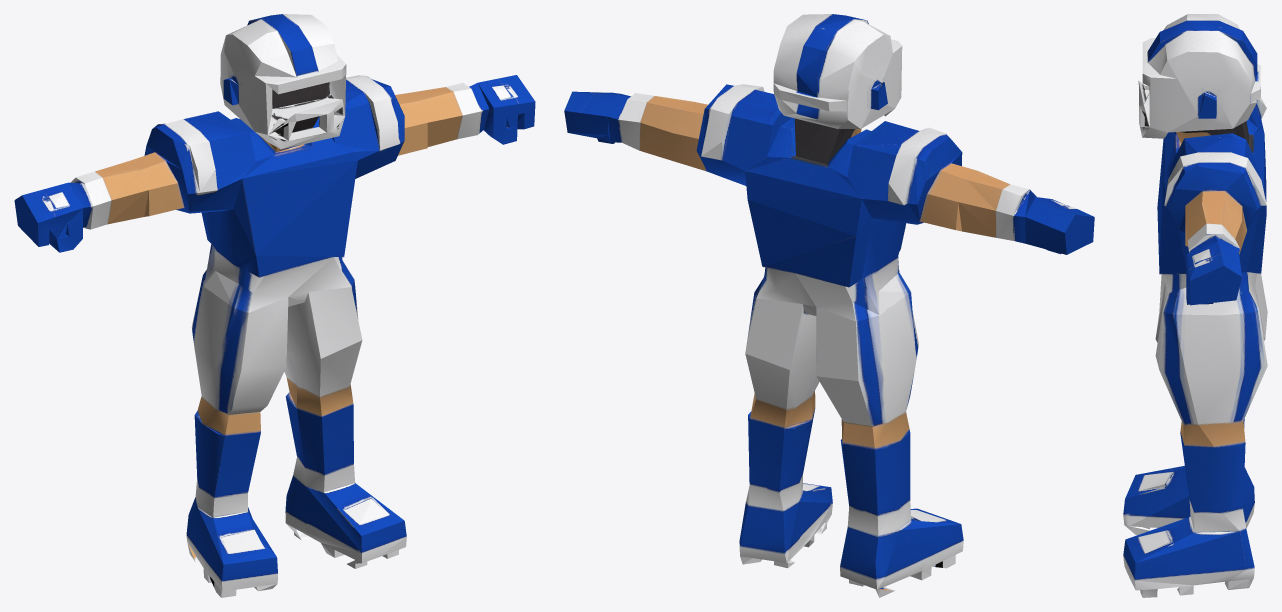
File: med-base-low-poly.glb
3 renders of one model, left to right at view 1: azimuth 30°, elevation 25°; view 2: azimuth 150°, elevation 25°; view 3: azimuth 270°, elevation 25°, orthographic. The views are drawn at different scales.
Parts seen in each view (by area): view 1: output_unwrapped; view 2: output_unwrapped; view 3: output_unwrapped.
Boxes of the visible parts, bbox=[...] form: output_unwrapped: bbox=[14, 14, 535, 597]; output_unwrapped: bbox=[564, 14, 1094, 597]; output_unwrapped: bbox=[1123, 14, 1267, 597].
Bounding box in the file's own units: 1.86 × 1.9 × 0.4696.
1 material, 1 textured.
